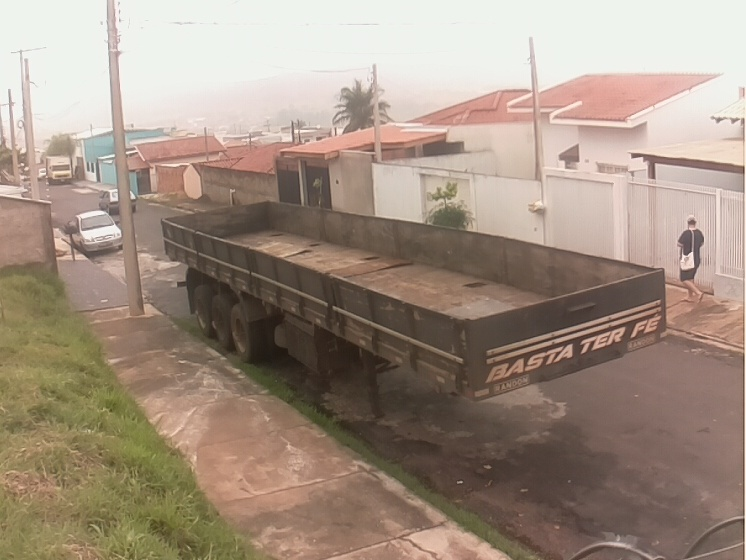person: (674, 215, 706, 304)
